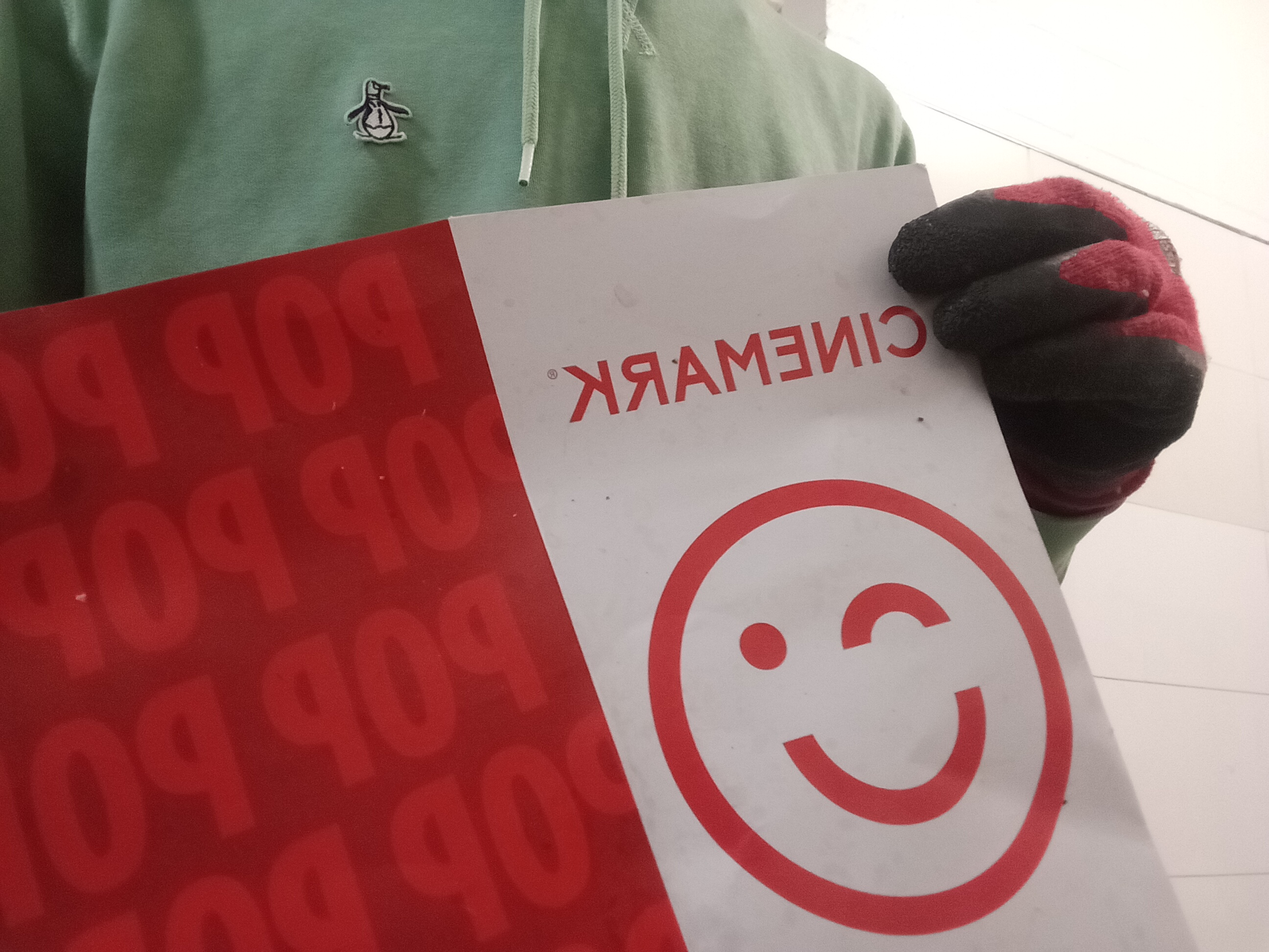Carton: (1, 165, 1196, 952)
